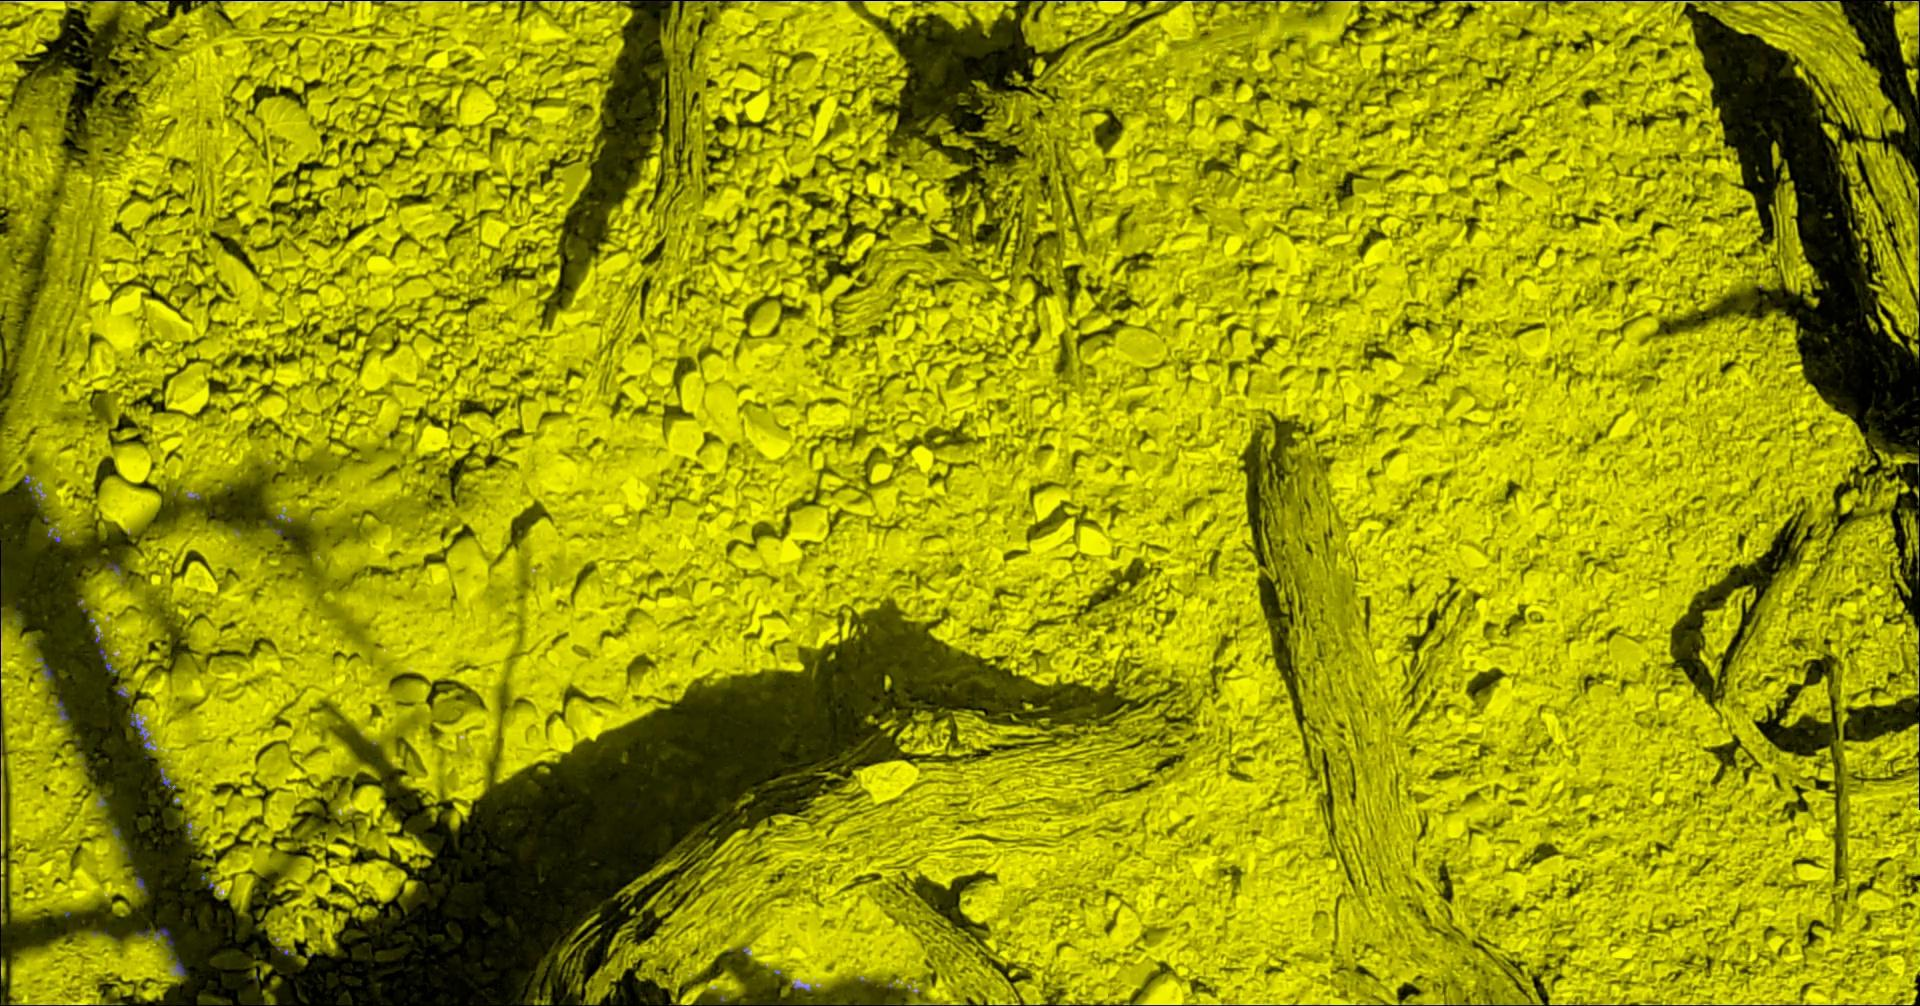ant: (155, 925, 188, 976), (131, 713, 149, 748), (58, 699, 71, 720)
